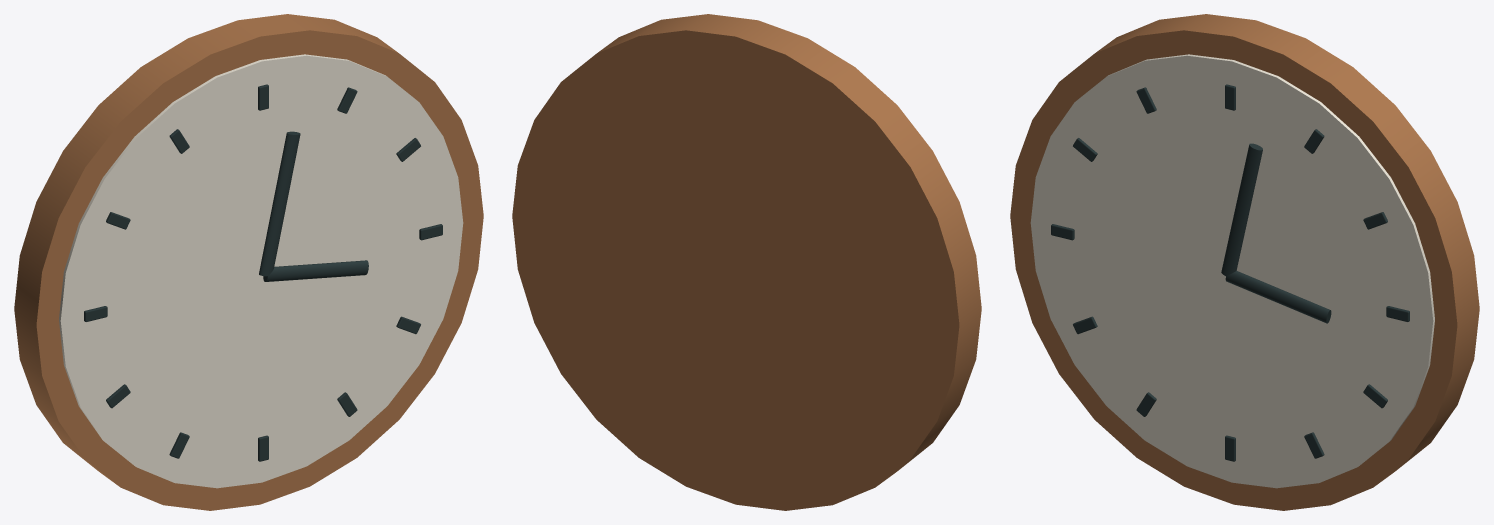
File: wp-horloge-murale.glb
3 views of the same model, side by side, from view 1: azimuth 30°, elevation 25°; view 2: azimuth 150°, elevation 25°; view 3: azimuth 330°, elevation 25° (orthographic).
Visible parts, largest first — view 1: wp-horloge-murale; view 2: wp-horloge-murale; view 3: wp-horloge-murale.
Part boxes in pixels (<box>): wp-horloge-murale: <box>14,14,483,510</box>; wp-horloge-murale: <box>512,14,981,510</box>; wp-horloge-murale: <box>1010,14,1479,510</box>.
Size of the model in its own units: 0.3 by 0.3 by 0.035.
